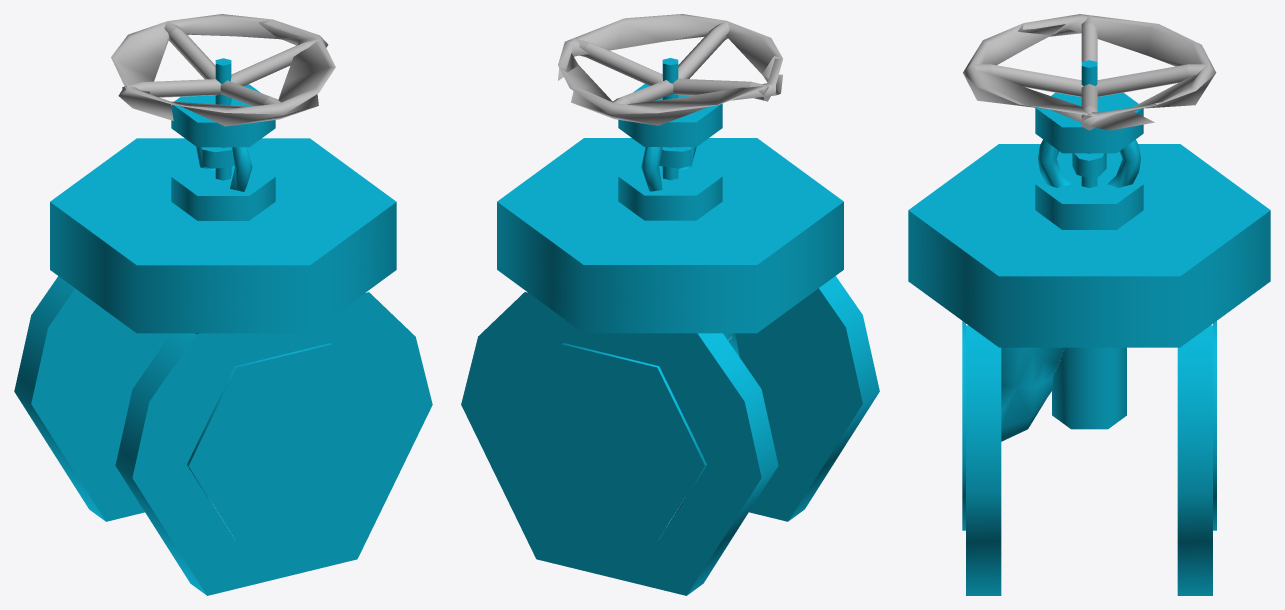
Rendered from c01c0053-0d9c-49f8-8efd-56df94ee3603.glb.
3 views of the same model, side by side, from view 1: azimuth 30°, elevation 25°; view 2: azimuth 150°, elevation 25°; view 3: azimuth 270°, elevation 25° (orthographic). The views are drawn at different scales.
Parts seen in each view (by area): view 1: PIPE-FS [1207886][bbd7b01a-cf78-4157-886d-1d15003f219d-00126; view 2: PIPE-FS [1207886][bbd7b01a-cf78-4157-886d-1d15003f219d-00126; view 3: PIPE-FS [1207886][bbd7b01a-cf78-4157-886d-1d15003f219d-00126.
Boxes of the visible parts, bbox=[...] form: PIPE-FS [1207886][bbd7b01a-cf78-4157-886d-1d15003f219d-00126: bbox=[14, 14, 432, 595]; PIPE-FS [1207886][bbd7b01a-cf78-4157-886d-1d15003f219d-00126: bbox=[461, 14, 879, 595]; PIPE-FS [1207886][bbd7b01a-cf78-4157-886d-1d15003f219d-00126: bbox=[908, 14, 1270, 595].
Size of the model in its own units: 0.185 by 0.2781 by 0.185.
